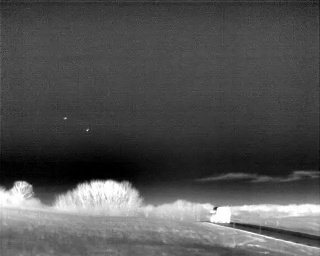BIRD: (62, 114, 69, 123)
